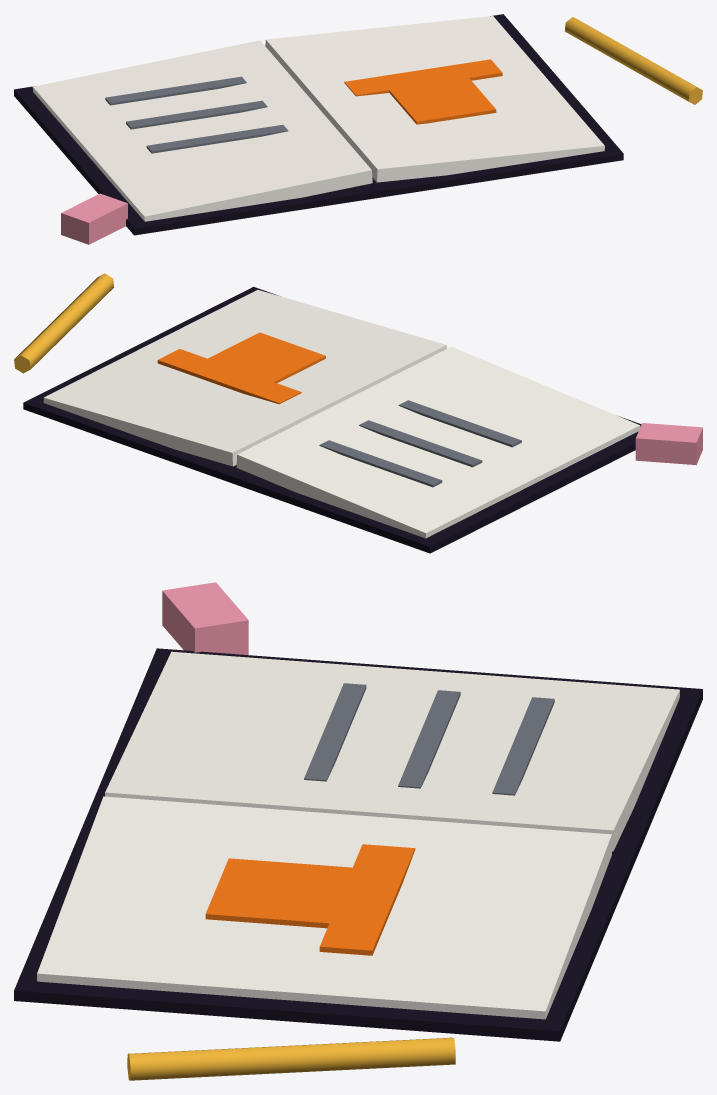
File: station_intake_ausstattung_1_0.glb
3 renders of one model, top to bottom at view 1: azimuth 30°, elevation 25°; view 2: azimuth 150°, elevation 25°; view 3: azimuth 270°, elevation 25°, orthographic. The views are drawn at different scales.
Parts seen in each view (by area): view 1: station_intake_ausstattung_1_0; view 2: station_intake_ausstattung_1_0; view 3: station_intake_ausstattung_1_0.
Part boxes in pixels (x1,y1,x2,y2): station_intake_ausstattung_1_0: (14, 14, 702, 244); station_intake_ausstattung_1_0: (14, 273, 702, 553); station_intake_ausstattung_1_0: (14, 582, 702, 1080).
Size of the model in its own units: 0.5859 by 0.0225 by 0.3603.
